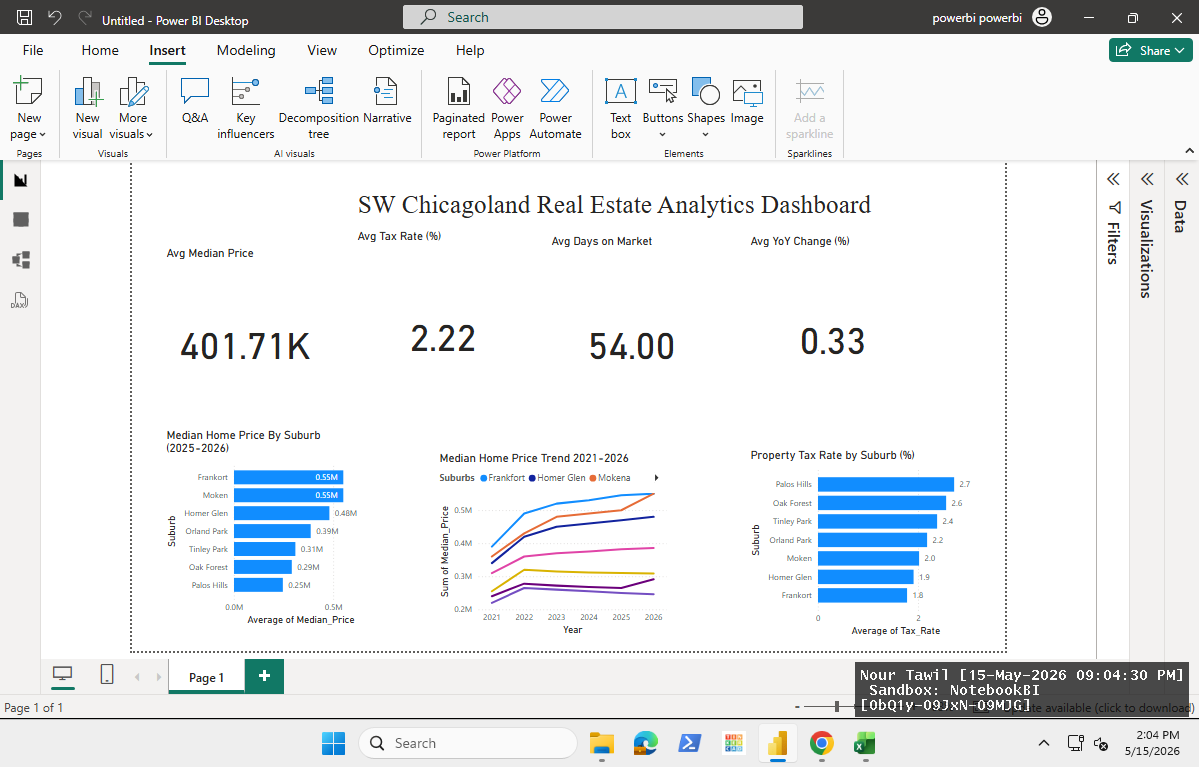

The page's visual inventory and layout, read from the dashboard file:
{"tool":"powerbi","page":{"name":"Page 1","canvas":[1280,720],"ordinal":0},"visuals":[{"type":"clusteredBarChart","title":"Median Home Price By Suburb (2025-2026)","fields":{"Category":["Suburb_Data.Suburb"],"Y":["Avg(Suburb_Data.Median_Price)"]},"box":[45.5,388.6,319.7,297.7],"z":0},{"type":"clusteredBarChart","title":"Property Tax Rate by Suburb (%)","fields":{"Category":["Suburb_Data.Suburb"],"Y":["Avg(Suburb_Data.Tax_Rate)"]},"box":[901.8,422.3,341.7,280.1],"z":1},{"type":"lineChart","title":" Median Home Price Trend 2021-2026","fields":{"Category":["Price_Trends.Year"],"Y":["Sum(Price_Trends.Median_Price)"],"Series":["Price_Trends.Suburbs"]},"box":[445.8,422.3,343.1,280.1],"z":2},{"type":"card","title":"Avg Median Price","fields":{"Values":["Avg(Suburb_Data.Median_Price)"]},"box":[45.5,126.1,240.5,261],"z":3},{"type":"card","title":"Avg Days on Market","fields":{"Values":["Avg(Suburb_Data.Days_On_Market)"]},"box":[610,108.5,243.4,294.7],"z":4},{"type":"card","title":"Avg Tax Rate (%)","fields":{"Values":["Avg(Suburb_Data.Tax_Rate)"]},"box":[325.5,101.2,261,285.9],"z":5},{"type":"card","title":"Avg YoY Change (%)","fields":{"Values":["Avg(Suburb_Data.YoY_change )"]},"box":[901.8,108.5,252.2,280.1],"z":6},{"type":"textbox","box":[261,38.1,893,63.1],"z":7}]}

Visuals, with their boxes on the page's 1280x720 design canvas (x1, y1, x2, y2). These are canvas units, not pixel positions in the 1199x767 screenshot, which may show the page scaled, cropped or inside an application window:
"Median Home Price By Suburb (2025-2026)" clusteredBarChart: (left=46, top=389, right=365, bottom=686)
"Property Tax Rate by Suburb (%)" clusteredBarChart: (left=902, top=422, right=1244, bottom=702)
" Median Home Price Trend 2021-2026" lineChart: (left=446, top=422, right=789, bottom=702)
"Avg Median Price" card: (left=46, top=126, right=286, bottom=387)
"Avg Days on Market" card: (left=610, top=108, right=853, bottom=403)
"Avg Tax Rate (%)" card: (left=326, top=101, right=586, bottom=387)
"Avg YoY Change (%)" card: (left=902, top=108, right=1154, bottom=389)
textbox: (left=261, top=38, right=1154, bottom=101)
